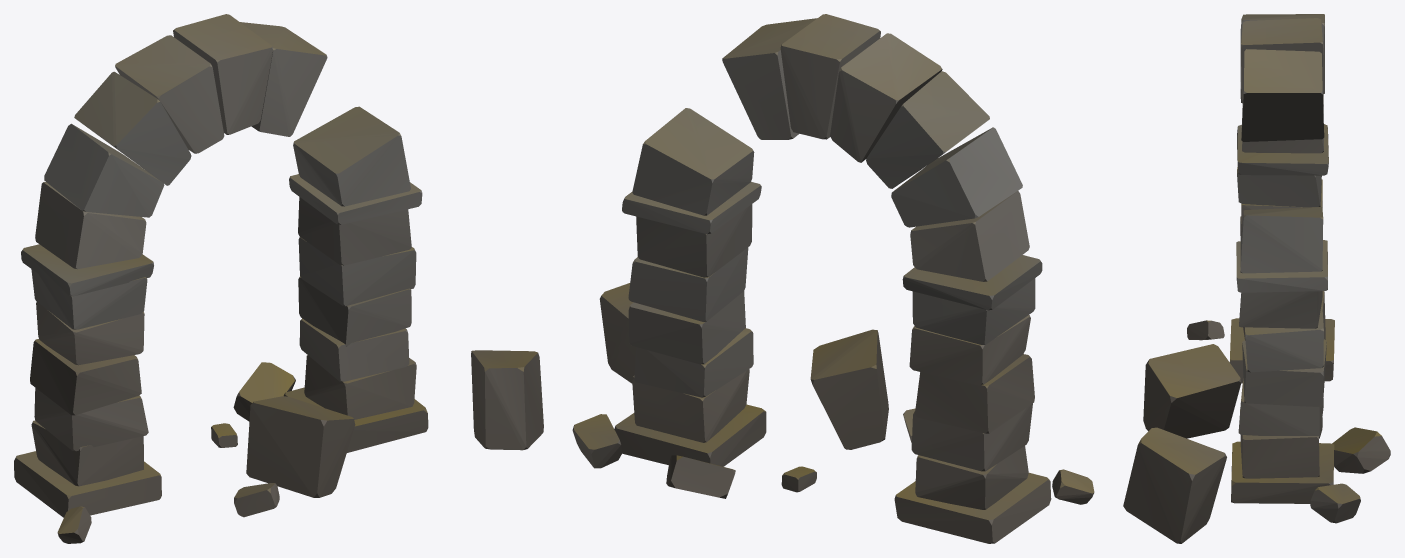
Rendered from ruin_arch.glb.
3 renders of one model, left to right at view 1: azimuth 30°, elevation 25°; view 2: azimuth 150°, elevation 25°; view 3: azimuth 270°, elevation 25°, orthographic. The views are drawn at different scales.
Visible parts, largest first — view 1: RuinArch; view 2: RuinArch; view 3: RuinArch.
Part boxes in pixels (left/top/right/bottom): RuinArch: left=14, top=14, right=543, bottom=543; RuinArch: left=572, top=14, right=1094, bottom=543; RuinArch: left=1123, top=14, right=1390, bottom=543.
Size of the model in its own units: 5.68 by 4.96 by 2.96.
